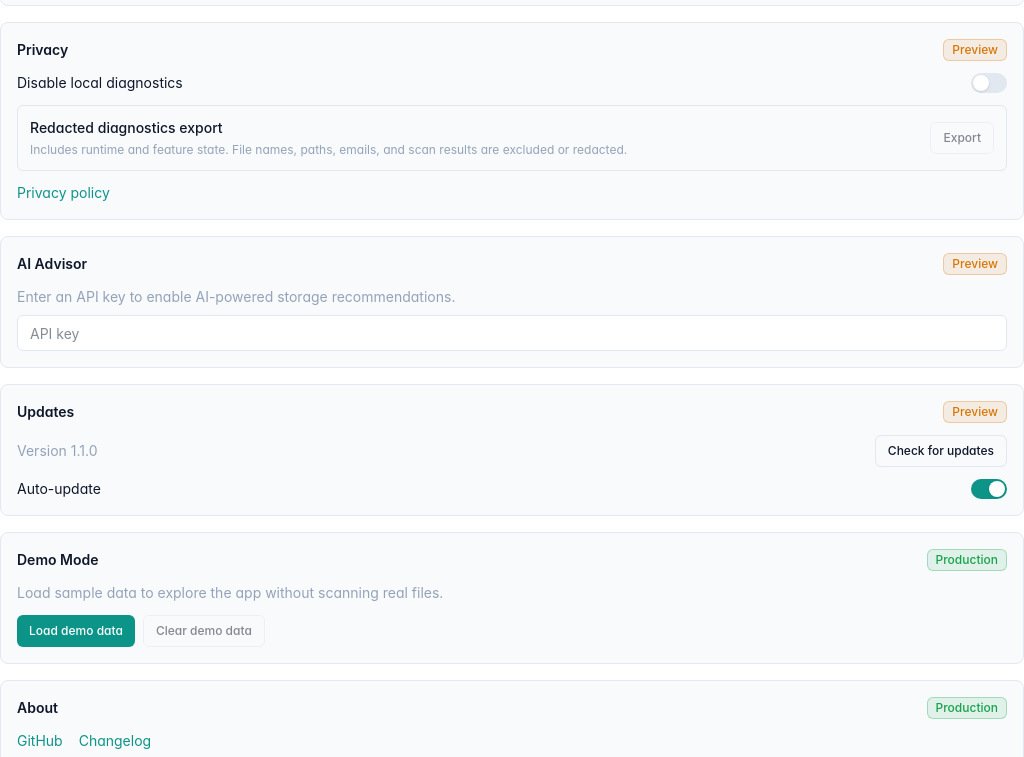
Test case: Settings — demo mode › shows "Demo data is active" notice when demo is active
(page scrolled)
What coordinates should you click on to do the following:
click the button "Load demo data"
I would click on:
 (76, 631)
Its box is [17,615,135,647].
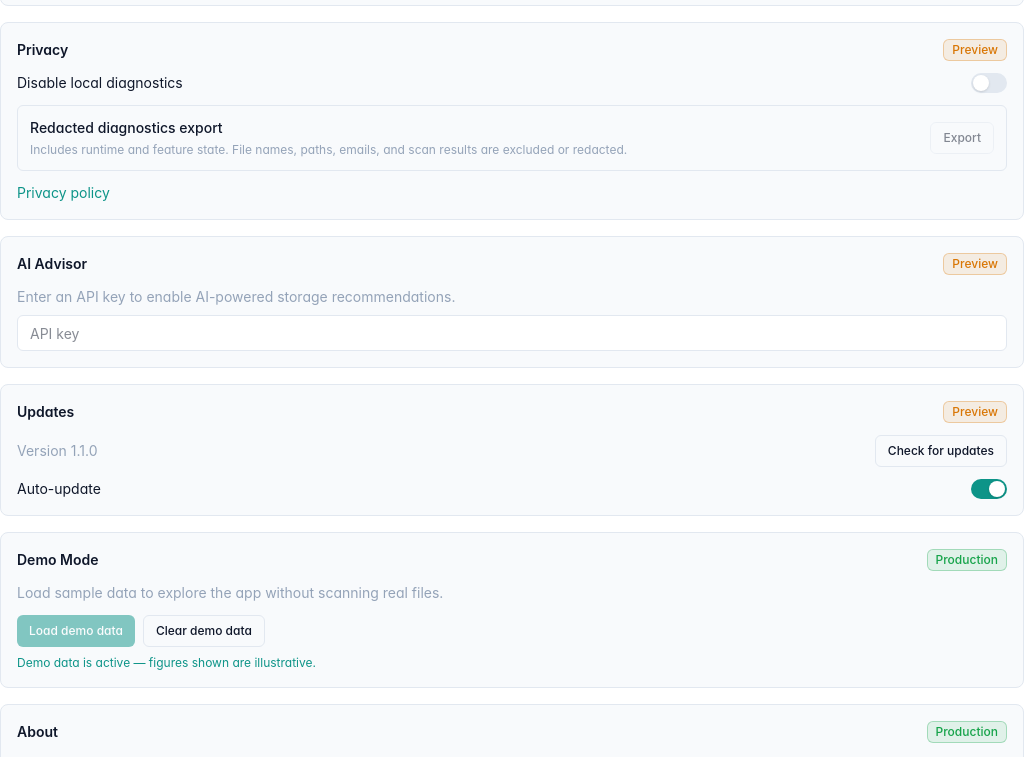
Check: the text "Demo data is active — figures shown are illustrative." is shown, box [17,655,316,670]
